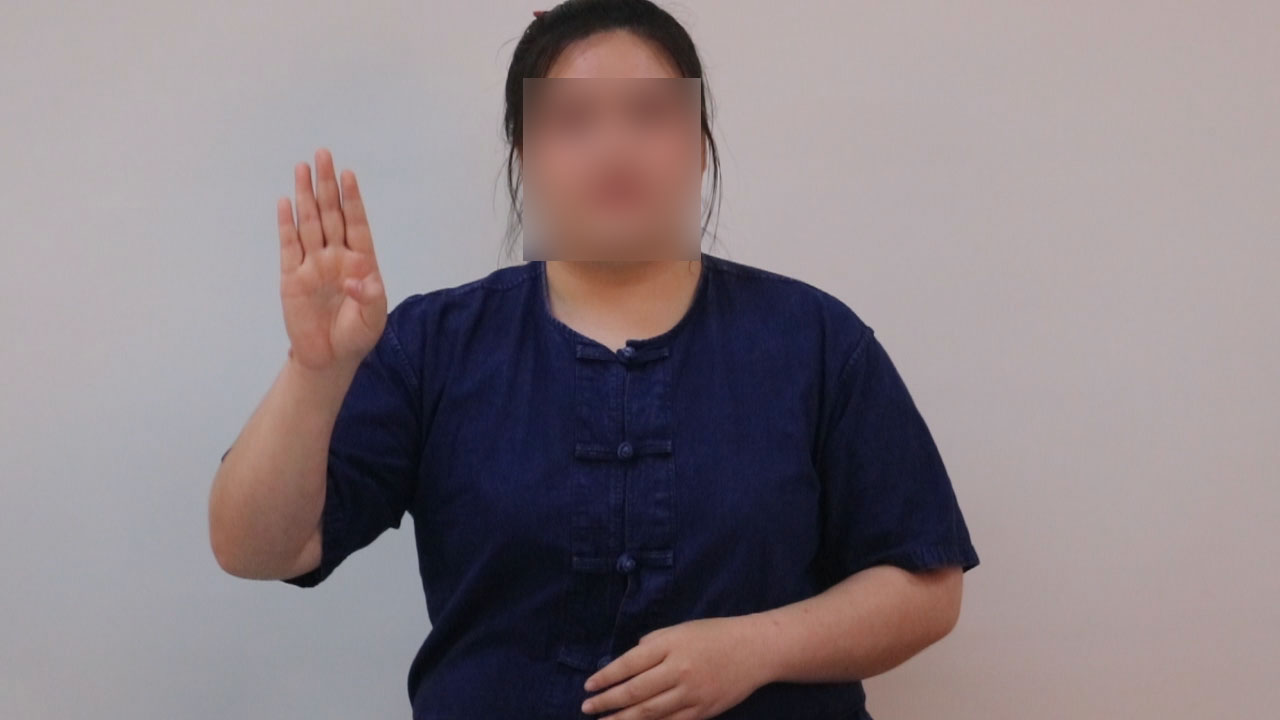bor: (258, 128, 407, 386)
